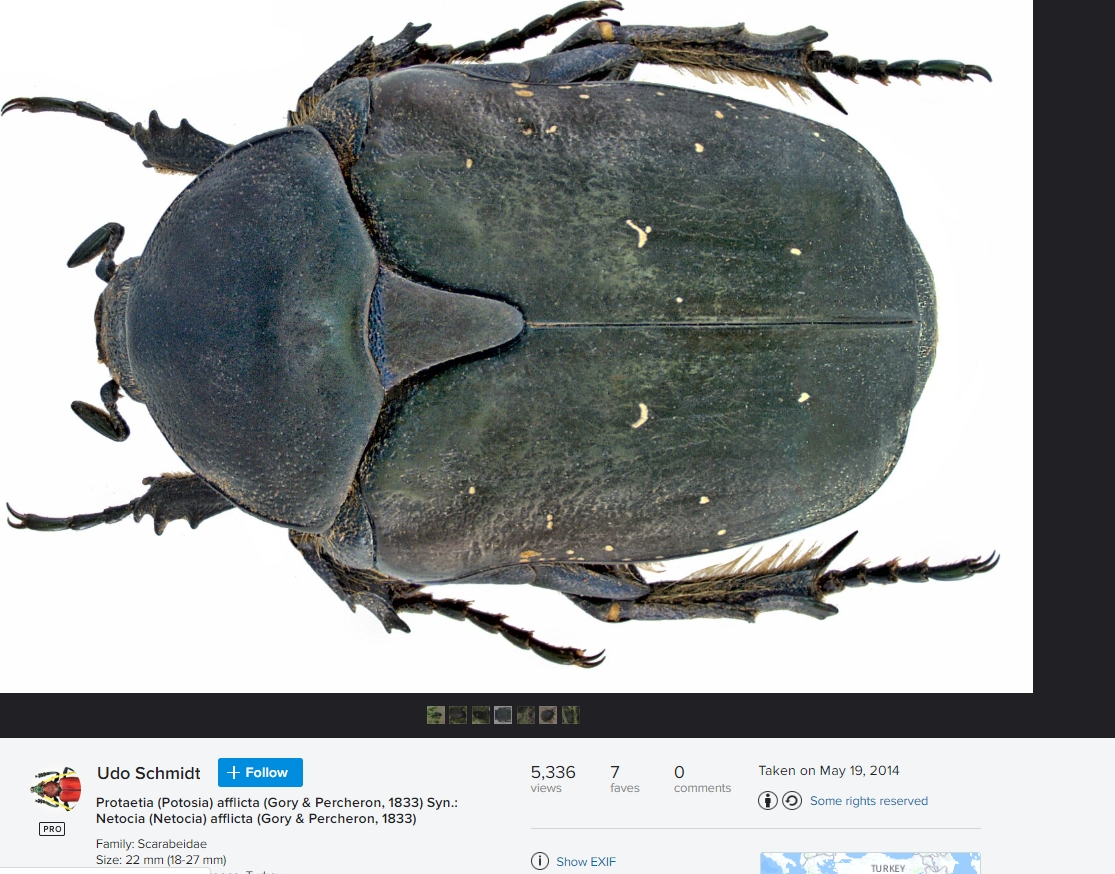Protaetia_afflicta: (6, 2, 1002, 664)
